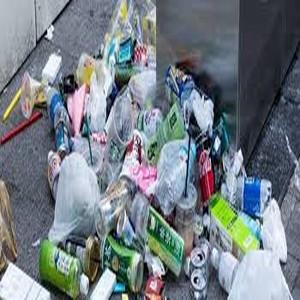Plastic: (34, 244, 90, 298), (45, 80, 68, 117)
